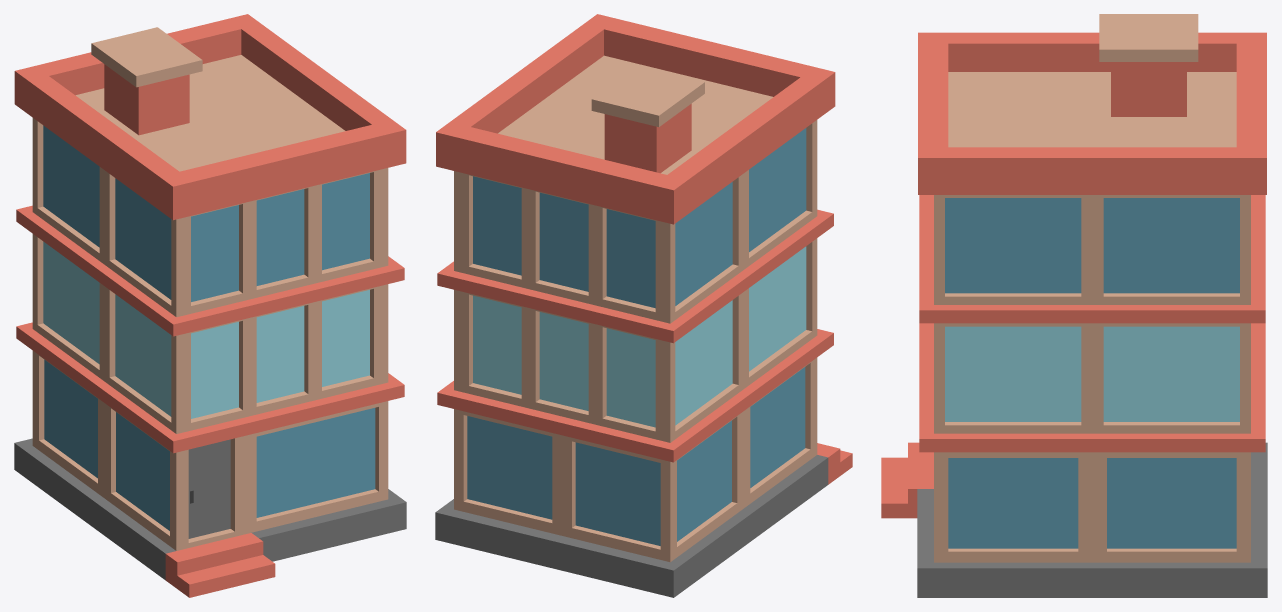
The model's file is House 1.7.fbx.
3 views of the same model, side by side, from view 1: azimuth 30°, elevation 25°; view 2: azimuth 150°, elevation 25°; view 3: azimuth 270°, elevation 25° (orthographic). The views are drawn at different scales.
Parts seen in each view (by area): view 1: House_Type1_7; view 2: House_Type1_7; view 3: House_Type1_7.
Part boxes in pixels (x1=…): House_Type1_7: x1=14, y1=14, x2=406, y2=597; House_Type1_7: x1=435, y1=14, x2=852, y2=597; House_Type1_7: x1=881, y1=14, x2=1267, y2=597.
Bounding box in the file's own units: 364 × 653 × 473.
